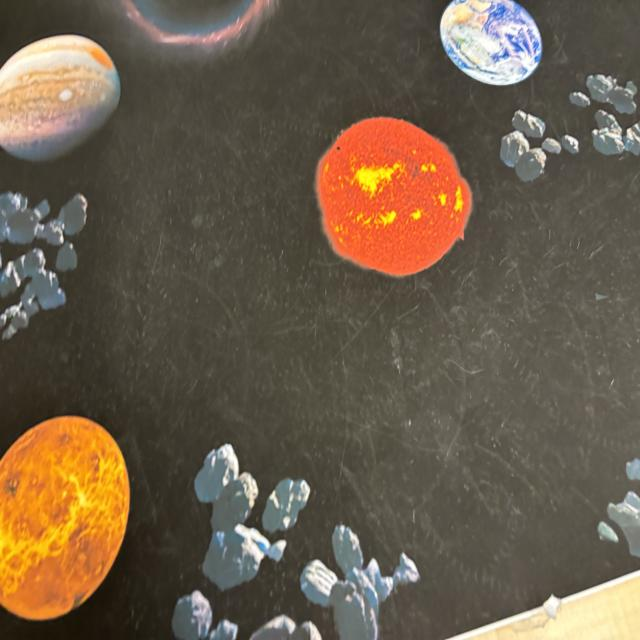Asteroids: (178, 450, 410, 640), (499, 74, 640, 185), (0, 191, 94, 338), (602, 456, 640, 567)
Black Hole: (124, 0, 284, 47)
Earth: (437, 0, 546, 84)
Jupiter: (2, 33, 116, 169)
Sun: (315, 110, 464, 288)
Venus: (0, 409, 129, 640)
